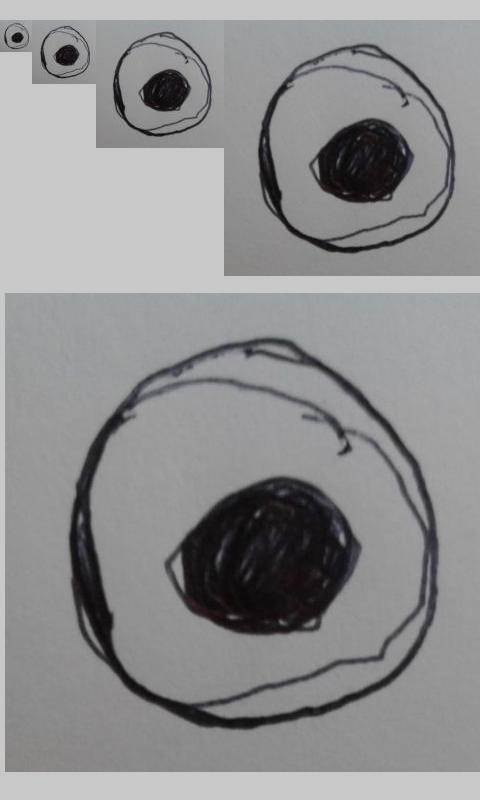radio_button: (73, 336, 442, 731), (258, 41, 458, 258), (112, 31, 212, 137), (40, 26, 92, 78), (3, 22, 30, 50)
